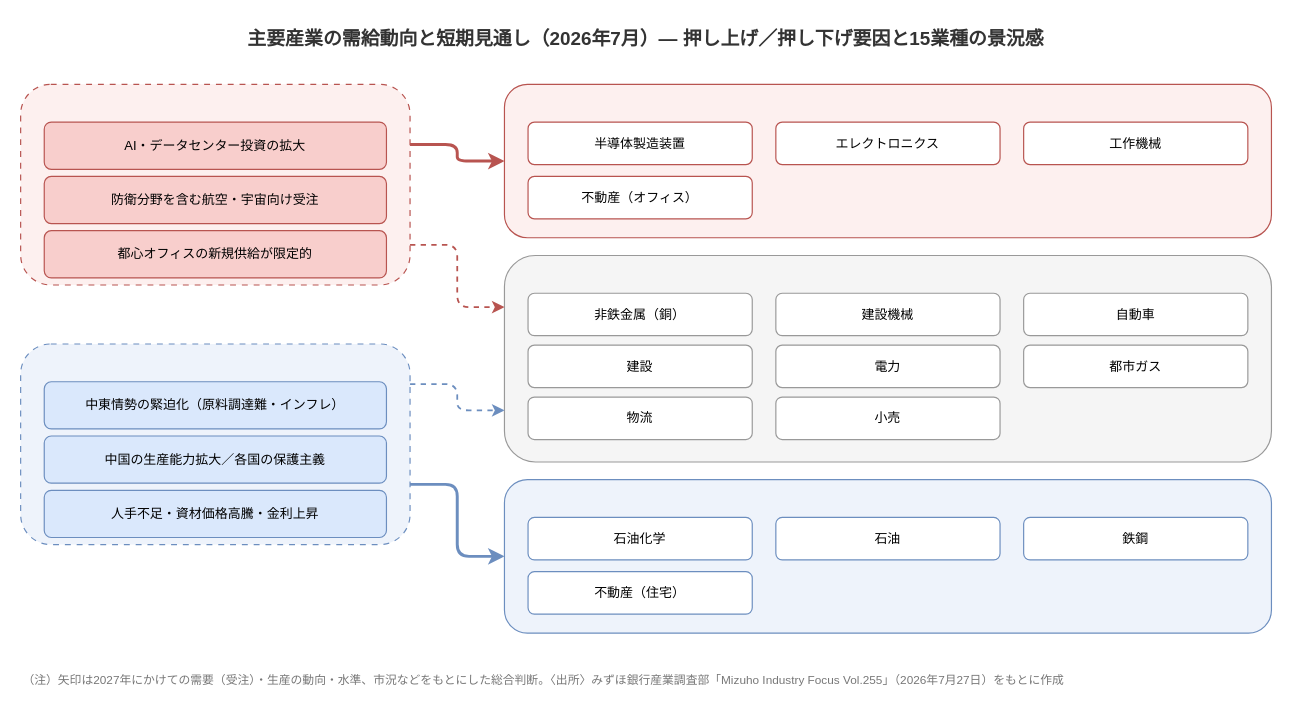
Some shapes in this 1292 by 723 pixel diagram are drawn without their labels. The shapes that lost their labels are listed below. From the top down, each one's box as (x1, y1, x2, y2) in pixels, then its label:
(503, 83, 1271, 238): 改善（↑）
(19, 83, 410, 285): 押し上げ要因
(503, 254, 1271, 462): 横ばい（→）
(19, 343, 410, 545): 押し下げ要因
(503, 478, 1271, 633): 悪化（↓）
